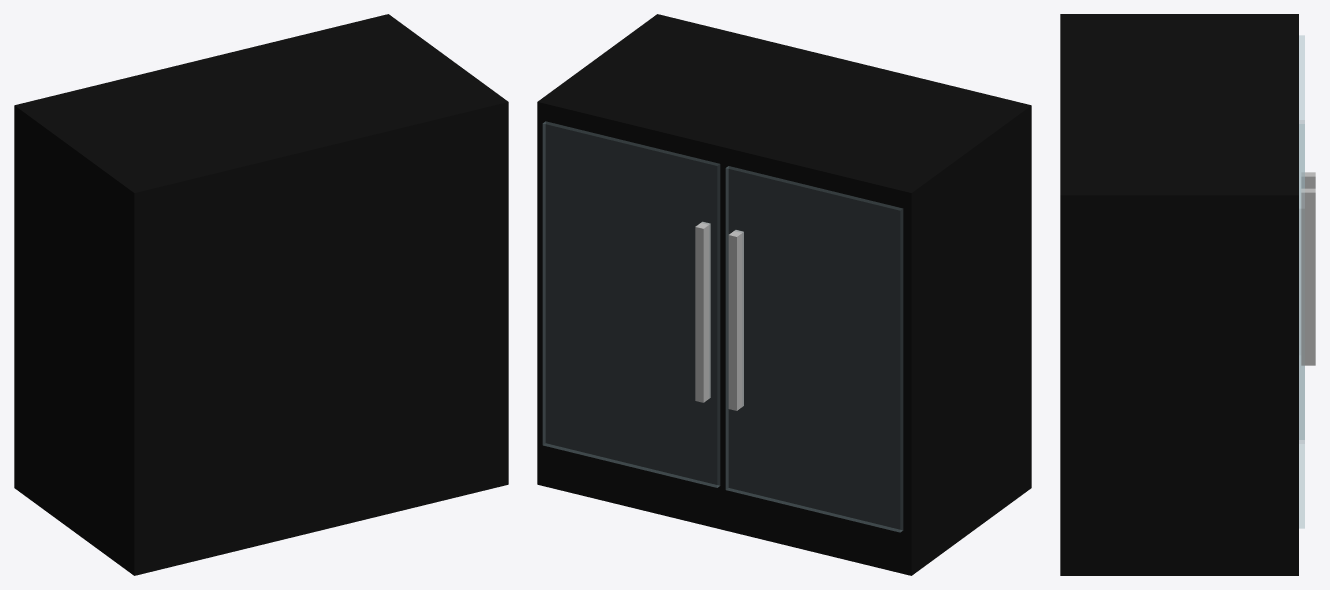
Rendered from hospitality.pub.bottle_fridge.glb.
3 renders of one model, left to right at view 1: azimuth 30°, elevation 25°; view 2: azimuth 150°, elevation 25°; view 3: azimuth 270°, elevation 25°, orthographic.
Parts seen in each view (by area): view 1: main__plastic_black; view 2: main__plastic_black, main__glass, main__steel_stainless; view 3: main__plastic_black, main__glass, main__steel_stainless.
Boxes of the visible parts, <box> form: main__plastic_black: <box>14,14,508,575</box>; main__plastic_black: <box>537,14,1031,575</box>; main__glass: <box>543,121,902,532</box>; main__steel_stainless: <box>695,221,743,410</box>; main__plastic_black: <box>1060,14,1298,575</box>; main__glass: <box>1299,35,1304,528</box>; main__steel_stainless: <box>1301,172,1315,365</box>.
Bounding box in the file's own units: 0.9 × 0.88 × 0.535.
